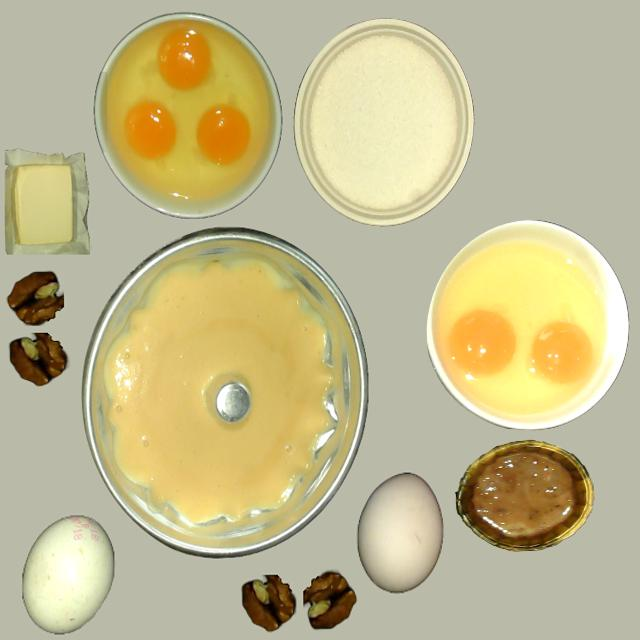Egg: (450, 311, 517, 377), (530, 322, 591, 384), (157, 28, 212, 90), (196, 105, 250, 165), (124, 100, 178, 160)
Sugar: (294, 18, 470, 226)
